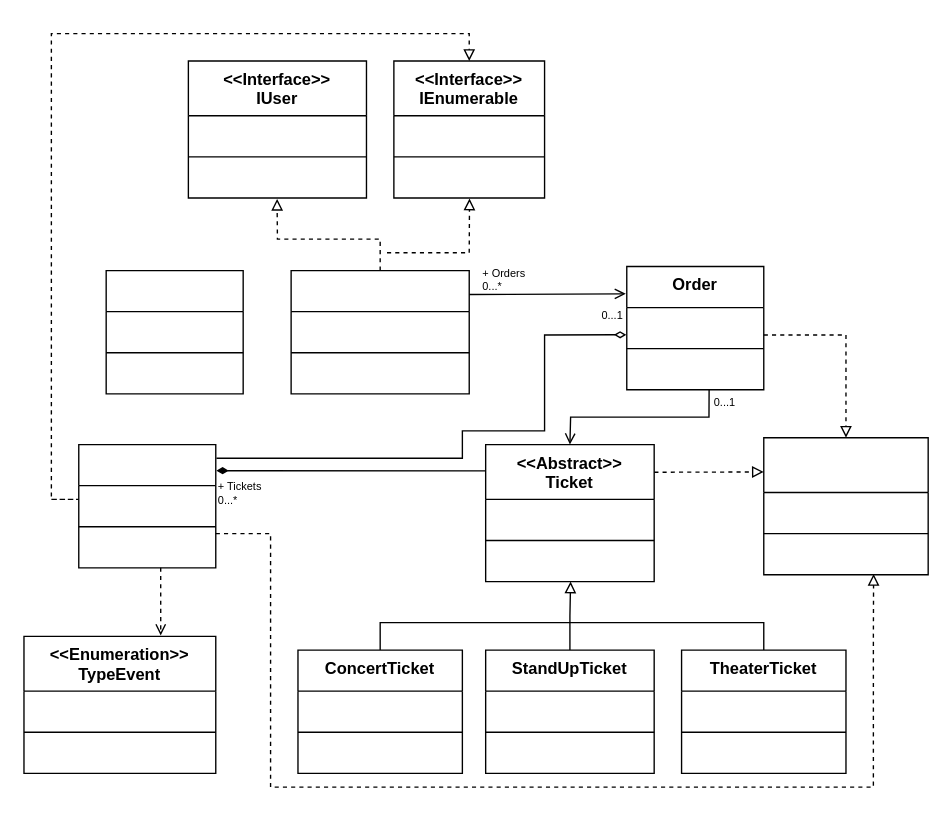
The diagram is 952 pixels wide and 822 high, and some of its shapes have lost their labels. The shapes that lost their labels are listed below. From the top down, each one's centre as x and y in pixels, then its label:
At point (174, 331): "Admin".
At point (379, 331): "RegisteredUser".
At point (146, 505): "Event".
At point (845, 505): "<<Interface>> IComparable".
